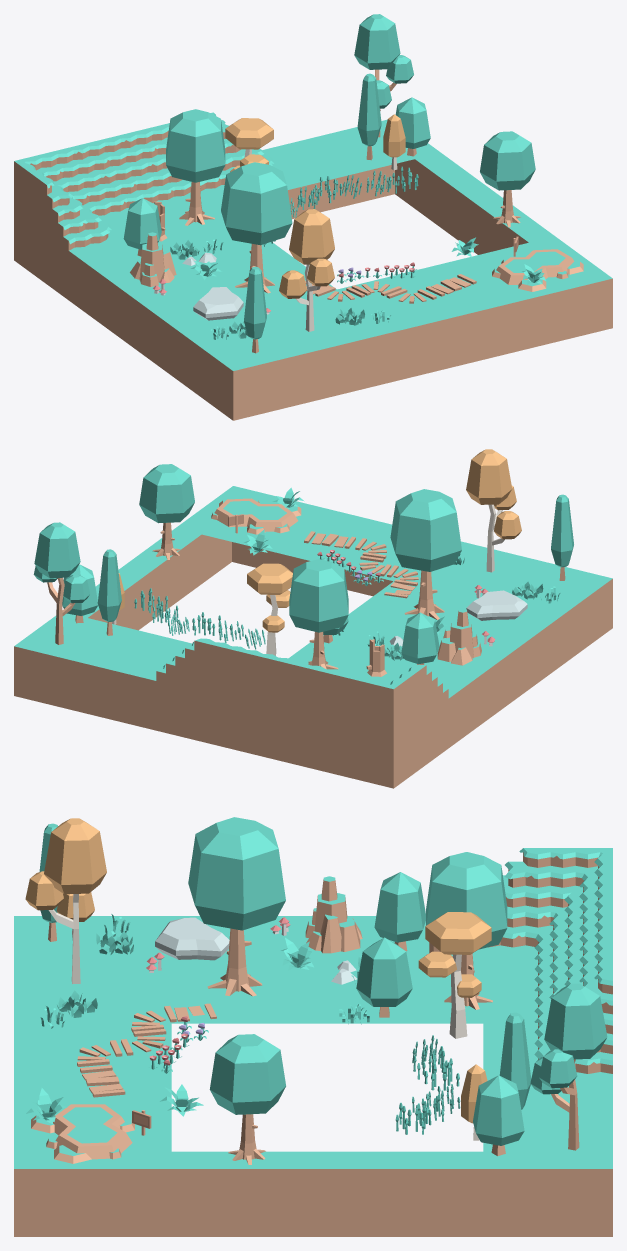
File: parkscene.glb
The picture shows the model from 3 angles, top to bottom: view 1: azimuth 30°, elevation 25°; view 2: azimuth 150°, elevation 25°; view 3: azimuth 270°, elevation 25°; orthographic projection. The views are drawn at different scales.
Visible parts, largest first — view 1: ground.002; view 2: ground.002; view 3: ground.002.
Part boxes in pixels (<box>): ground.002: <box>14,14,612,420</box>; ground.002: <box>14,449,612,788</box>; ground.002: <box>14,817,612,1236</box>.
Bounding box in the file's own units: 8.06 × 3.39 × 8.
